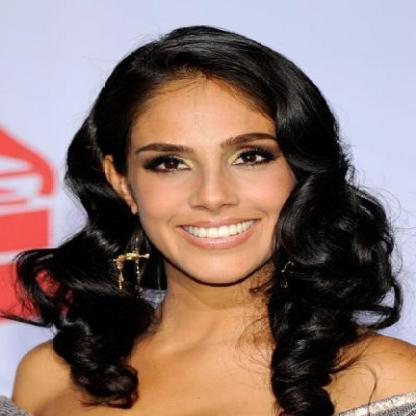long-hair: (1, 286, 413, 351)
